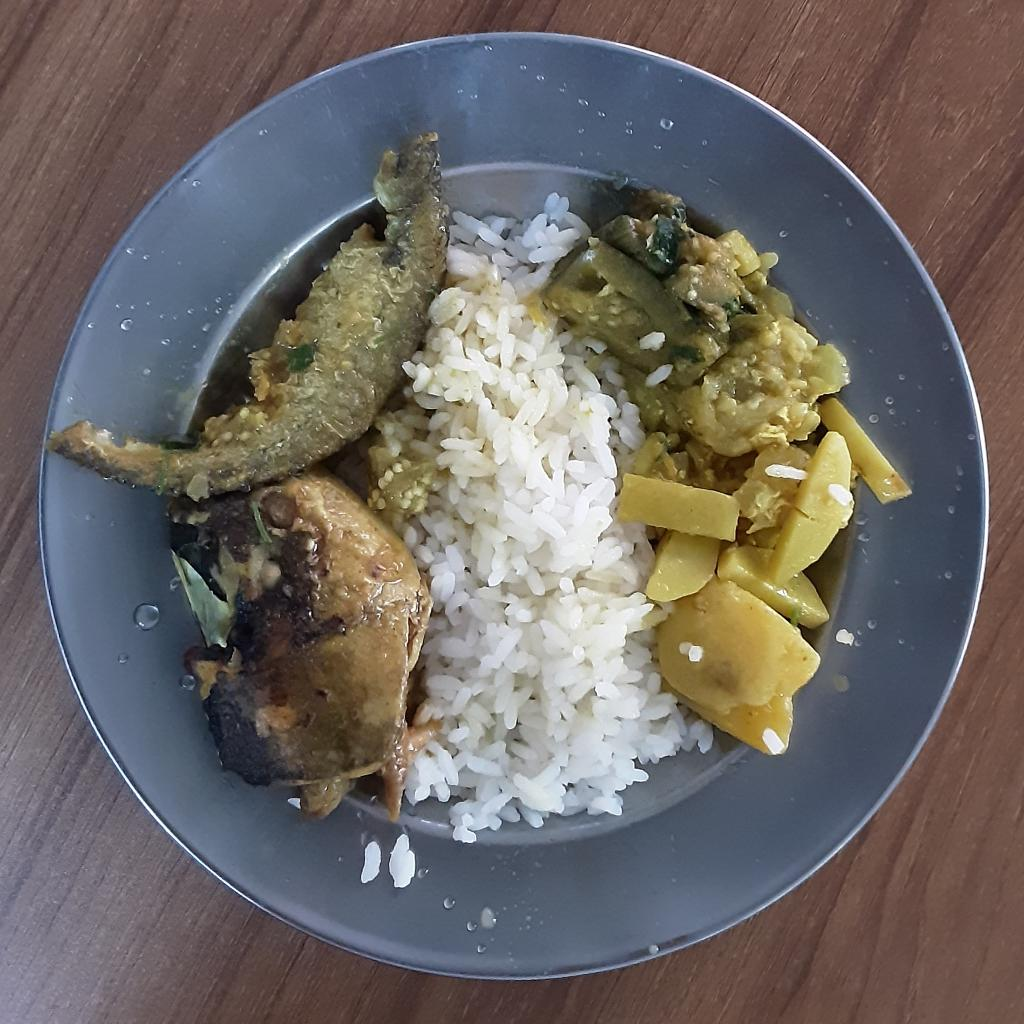dundol: (547, 185, 845, 455)
fish: (44, 134, 450, 500), (169, 461, 442, 823)
potato: (616, 397, 913, 760)
rice: (312, 196, 719, 844), (759, 723, 794, 758)
